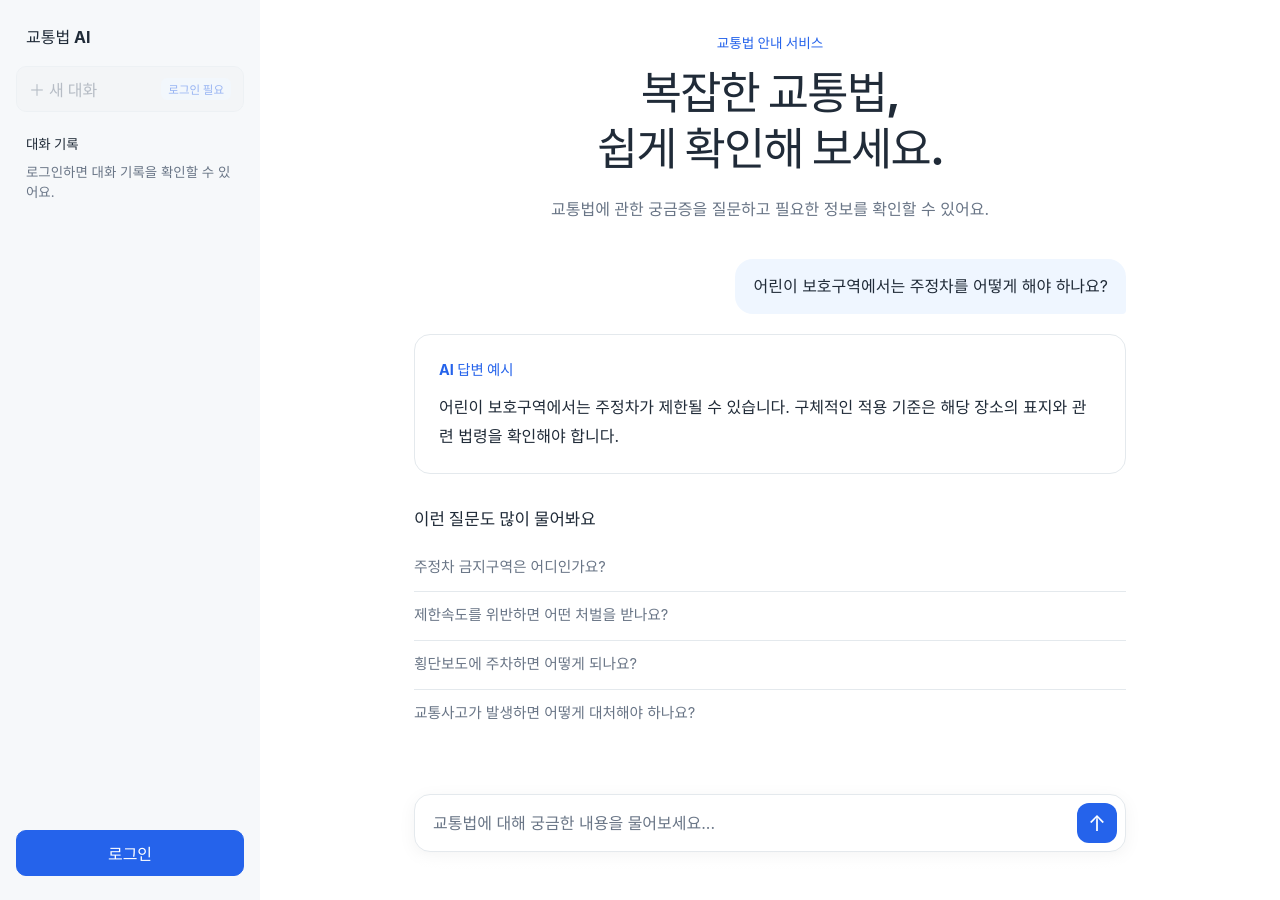
Test: 로그인 모달에서 회원가입 탭으로 전환할 수 있다
This screenshot has width=1280, height=900.
Click the button "로그인": click(130, 853) [16,830,244,876]
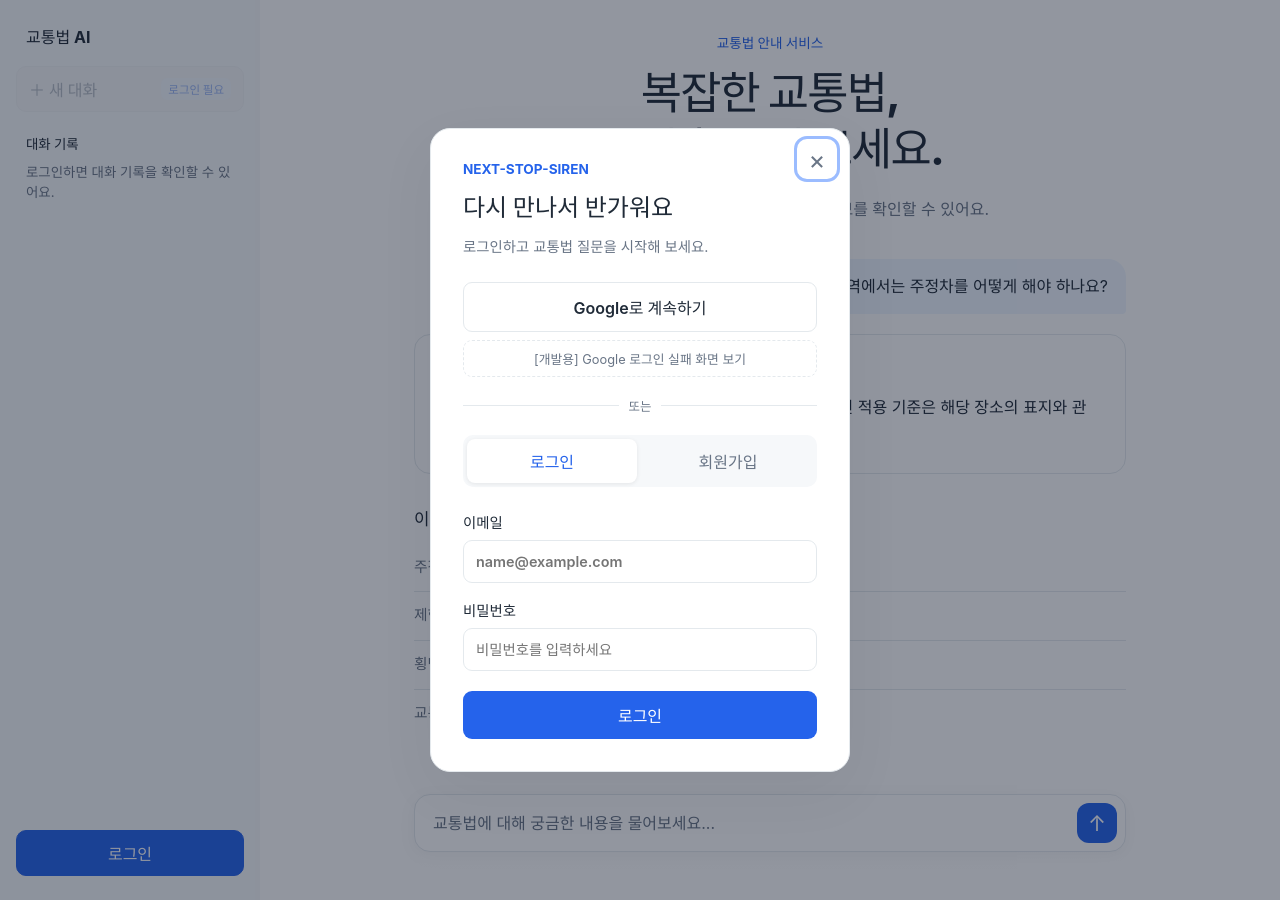
Click the button "회원가입": click(728, 461) [643,439,813,483]
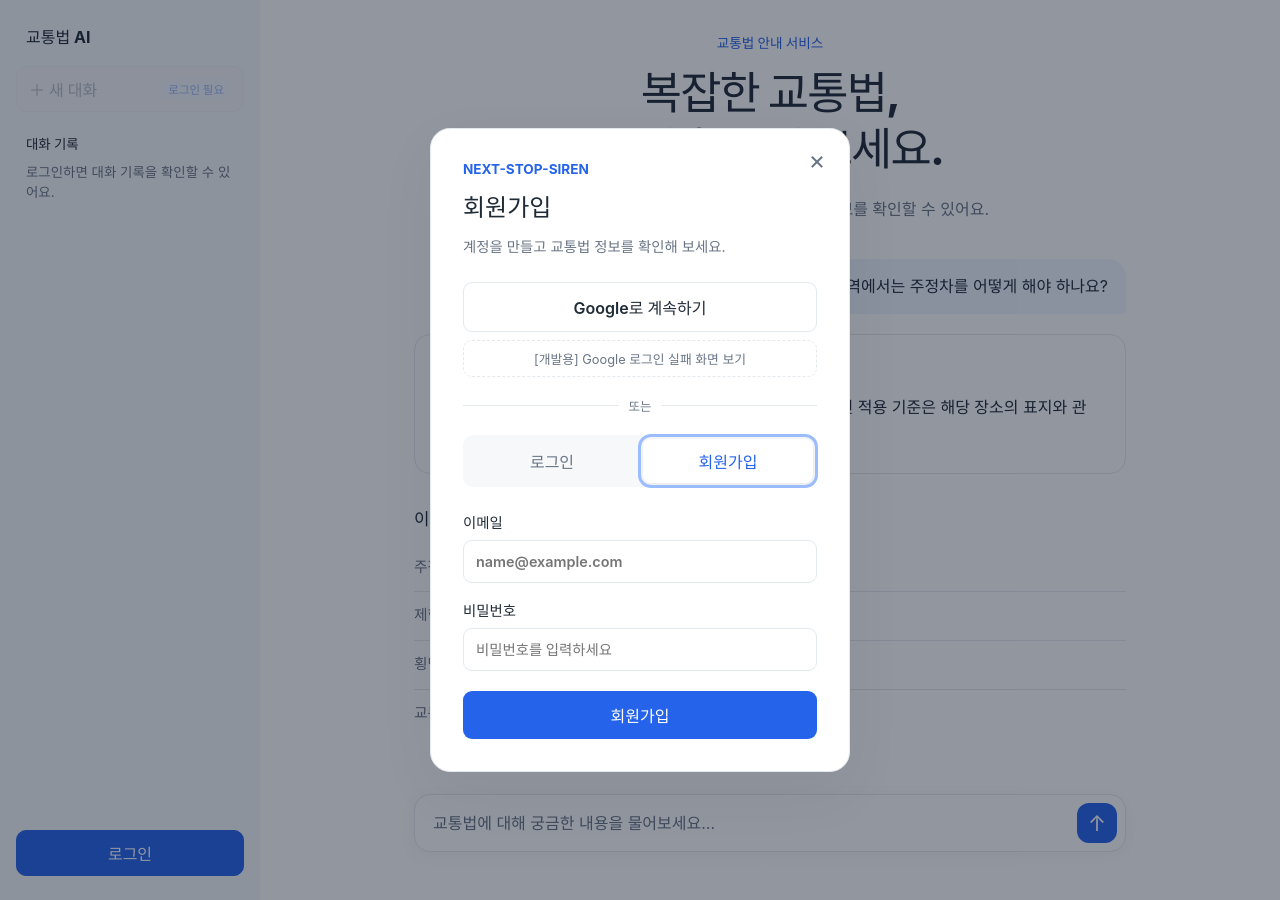
Result: the field labelled "이메일" is shown at [463,540,817,583]
Result: the password field labelled "비밀번호" is shown at [463,628,817,671]
Result: the heading "회원가입" is shown at [463,193,551,222]
